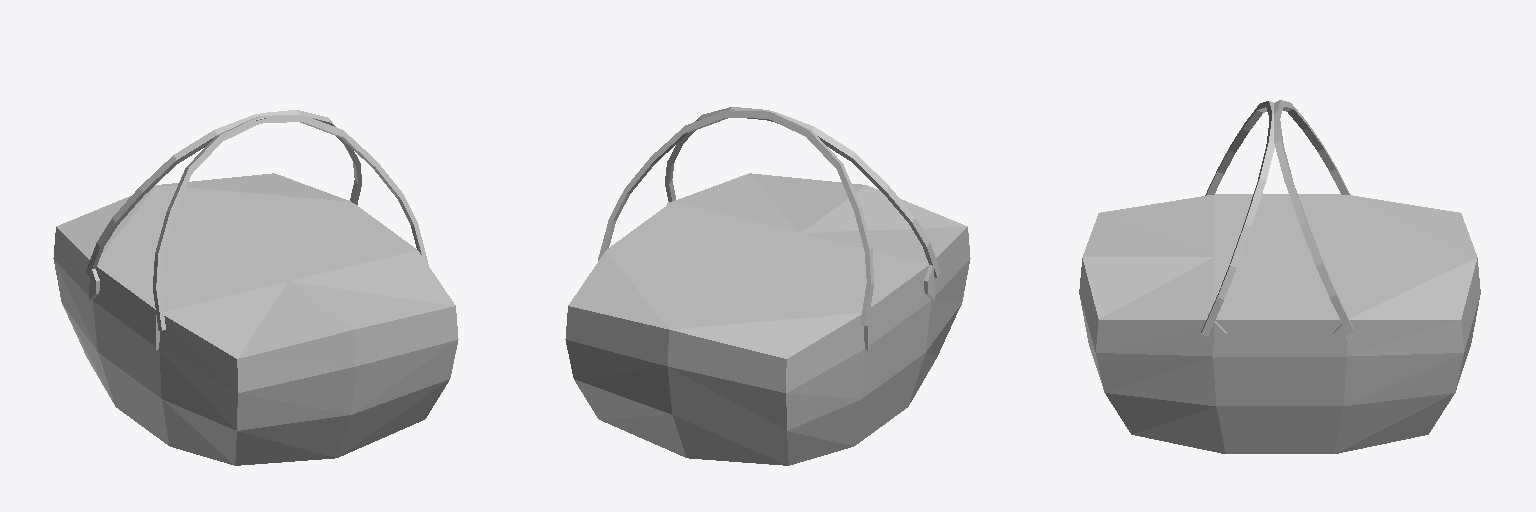
The model's file is picnicbasket.obj.
3 renders of one model, left to right at view 1: azimuth 30°, elevation 25°; view 2: azimuth 150°, elevation 25°; view 3: azimuth 270°, elevation 25°, orthographic.
Parts seen in each view (by area): view 1: picnicbasket; view 2: picnicbasket; view 3: picnicbasket.
Boxes of the visible parts, x1=… form: picnicbasket: x1=53, y1=110, x2=458, y2=465; picnicbasket: x1=565, y1=107, x2=970, y2=465; picnicbasket: x1=1079, y1=100, x2=1480, y2=453.
Size of the model in its own units: 1.5 by 1.53 by 1.94.